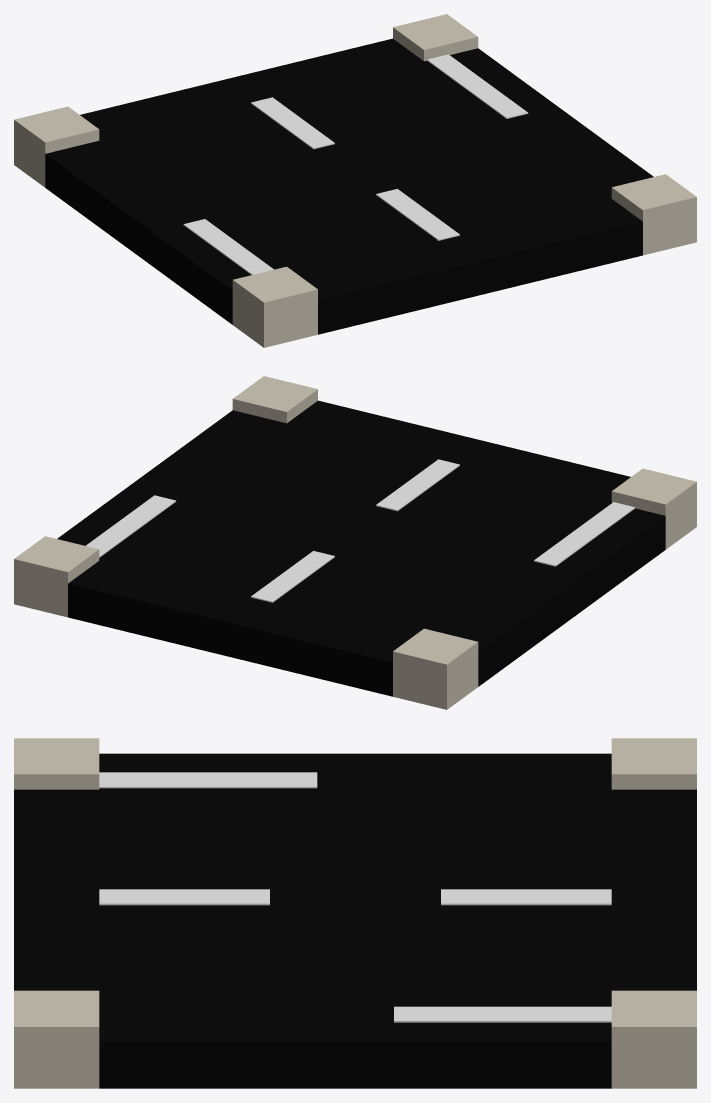
The model's file is road2.glb.
The picture shows the model from 3 angles, top to bottom: view 1: azimuth 30°, elevation 25°; view 2: azimuth 150°, elevation 25°; view 3: azimuth 270°, elevation 25°; orthographic projection. The views are drawn at different scales.
Visible parts, largest first — view 1: Cube, Stripe2.002, Stripe2.001, Stripe1, Stripe2; view 2: Cube, Stripe2.001, Stripe2.002, Stripe2, Stripe1; view 3: Cube, Stripe2.001, Stripe2.002, Stripe1, Stripe2.
Part boxes in pixels (x1,y1,x2,y2): Cube: (14,14,696,347); Stripe2.002: (427,54,528,118); Stripe2.001: (183,219,273,274); Stripe1: (251,97,334,149); Stripe2: (376,189,459,240); Cube: (14,376,696,709); Stripe2.001: (534,502,635,566); Stripe2.002: (86,495,176,557); Stripe2: (376,459,459,511); Stripe1: (251,551,334,602); Cube: (14,738,696,1088); Stripe2.001: (99,772,317,788); Stripe2.002: (394,1006,611,1022); Stripe1: (441,889,611,905); Stripe2: (99,889,269,905).
Size of the model in its own units: 2 by 0.2 by 2.
